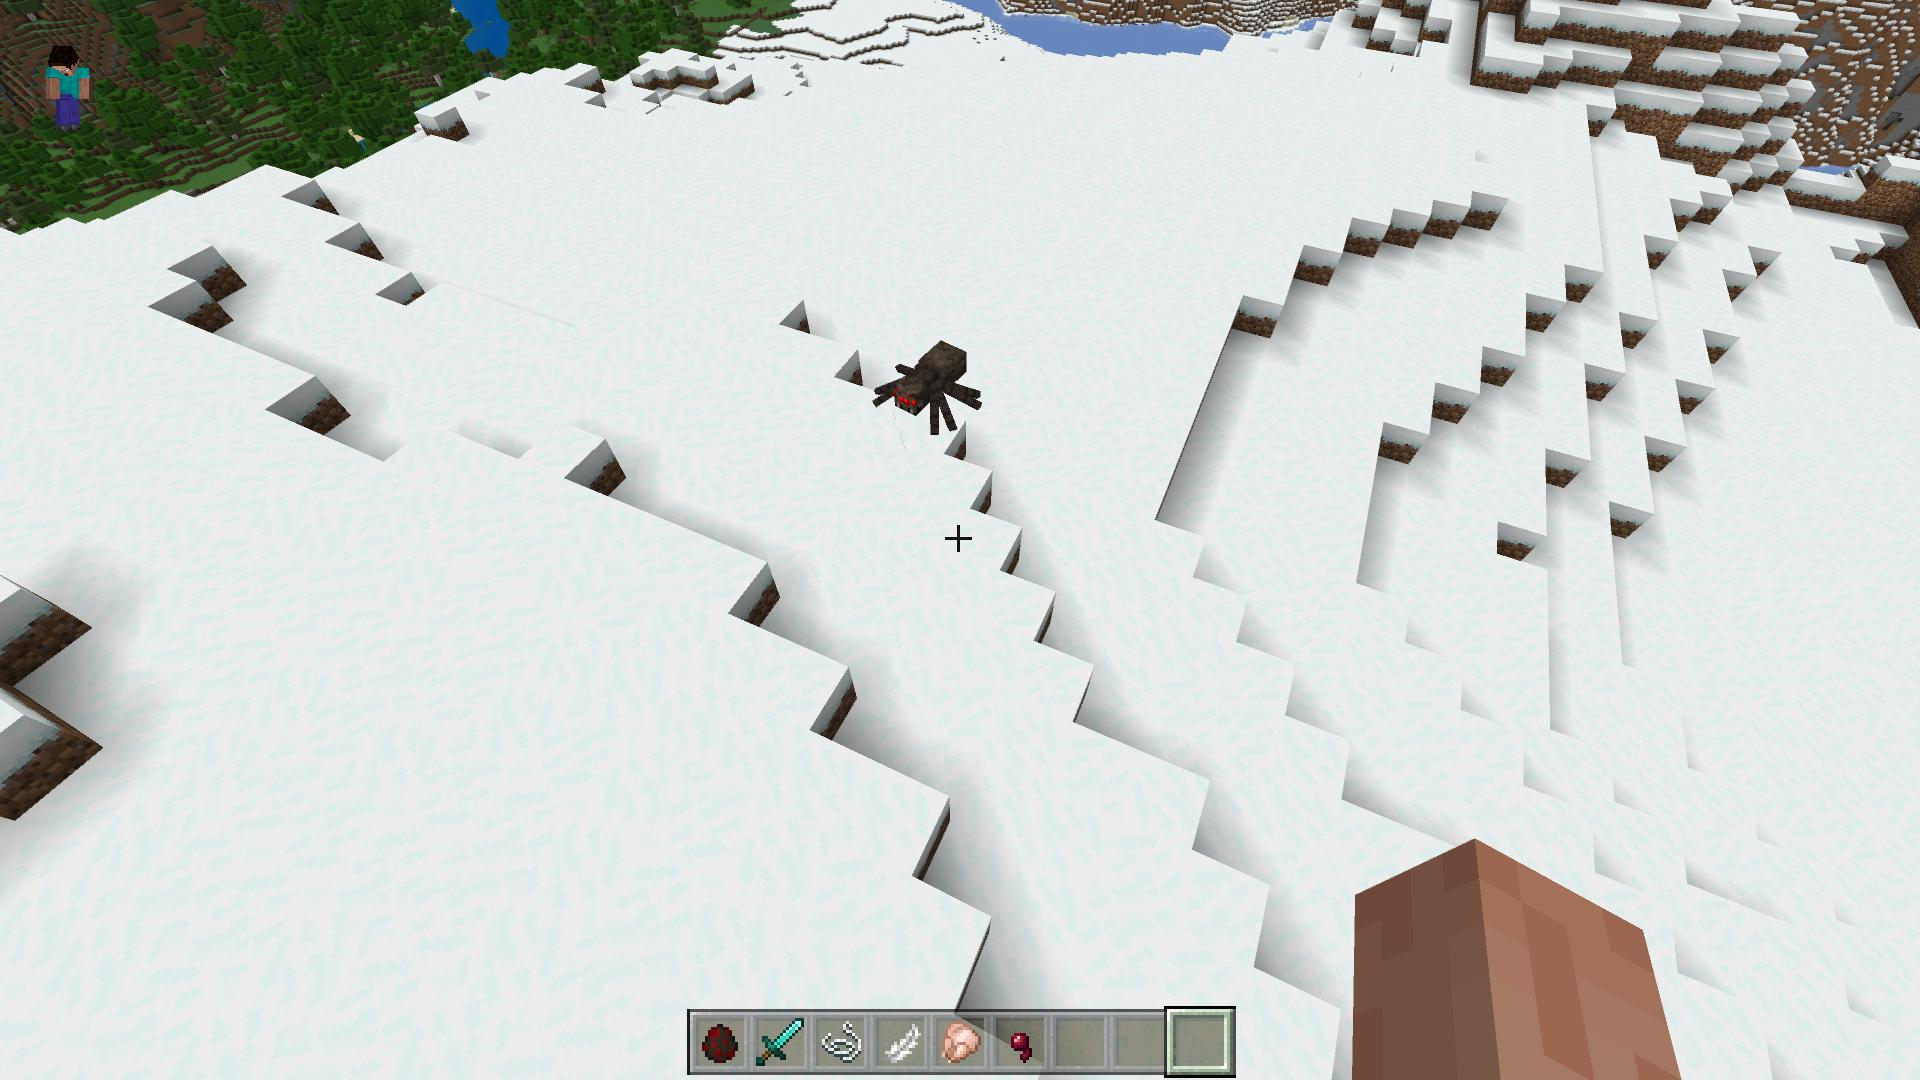spider: (868, 334, 988, 438)
